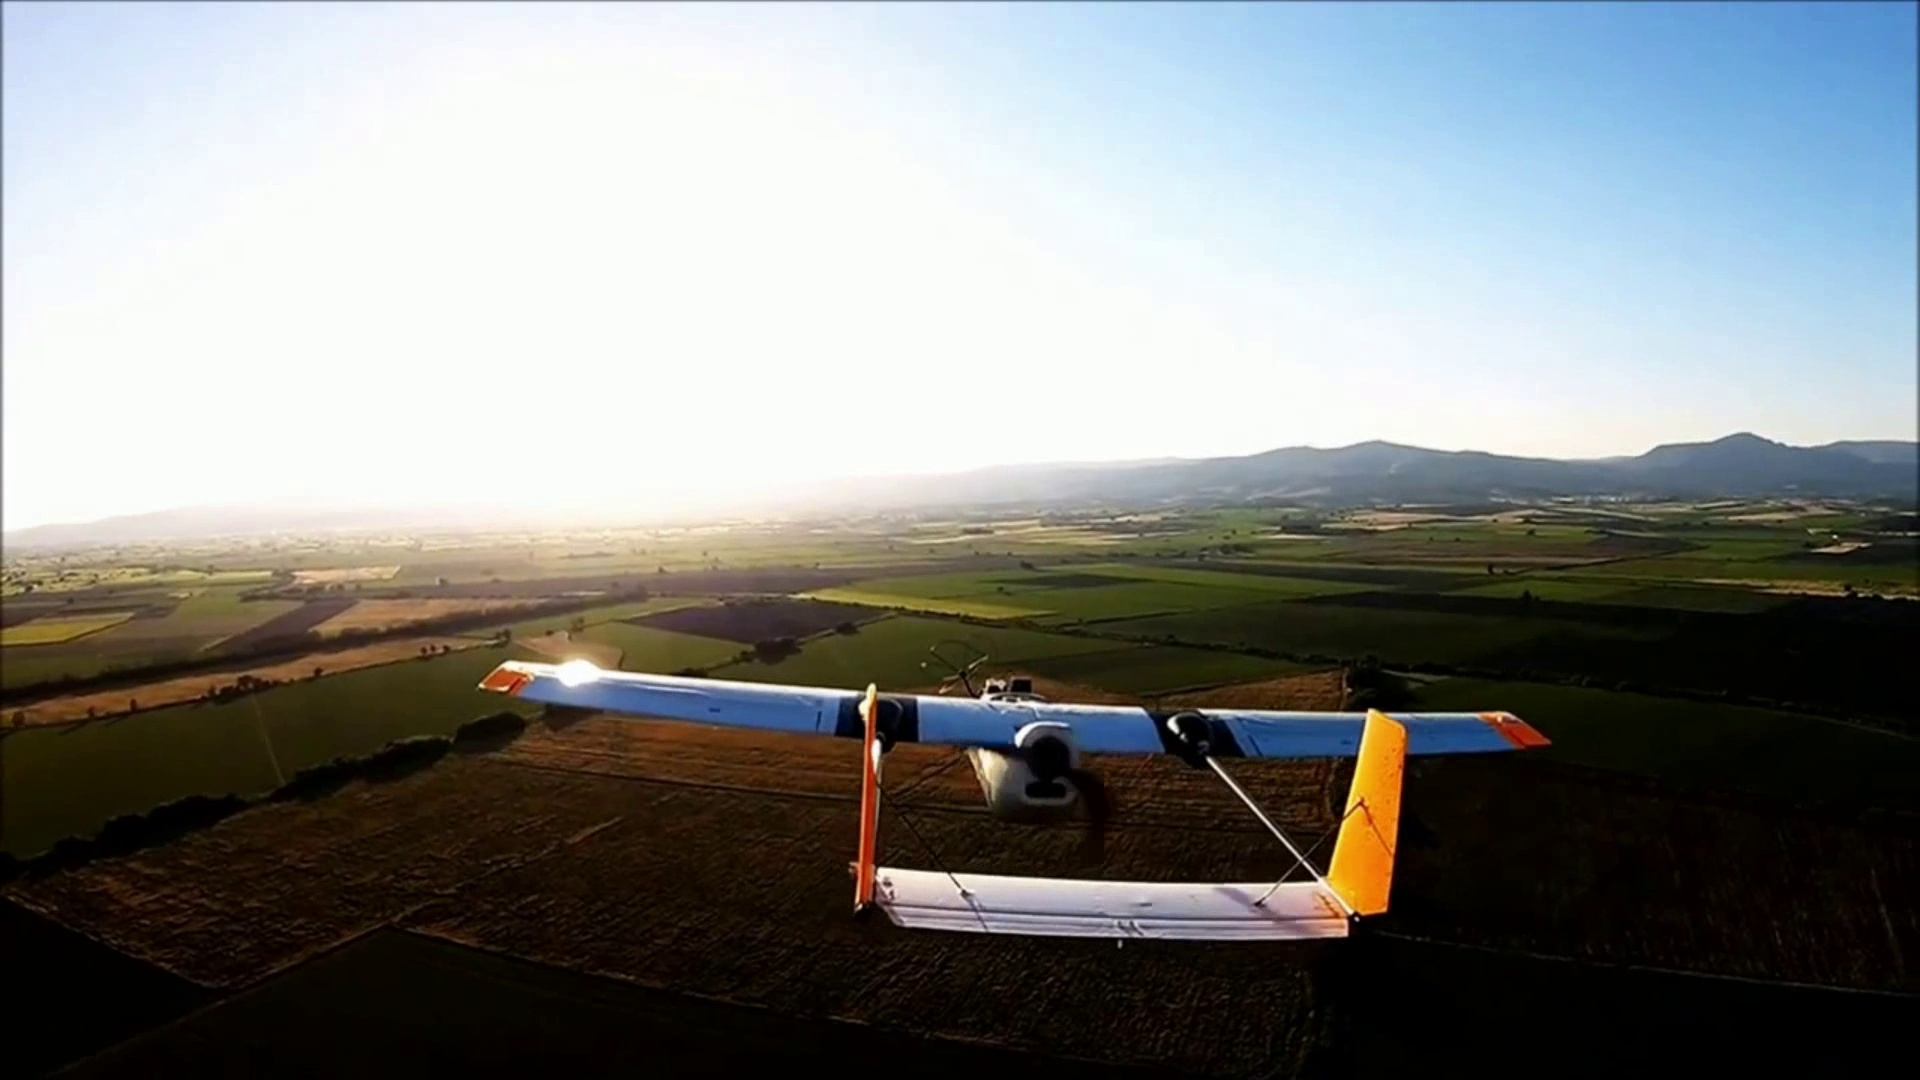airplane: (479, 657, 1550, 943)
